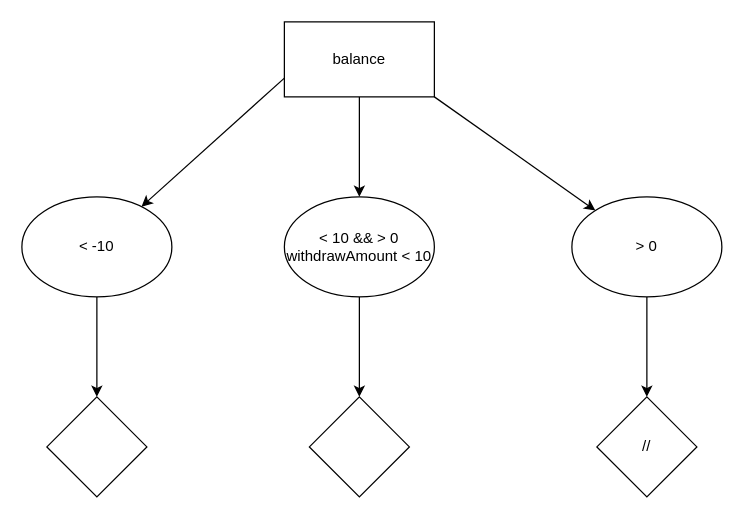
The diagram is 744 pixels wide and 519 high, and some of its shapes have lost their labels. The shapes that lost their labels are listed below. From the top down, each one's centre as x and y in pixels, then its label:
point (96, 446): Message 1) 2)
point (358, 446): "not enough"
